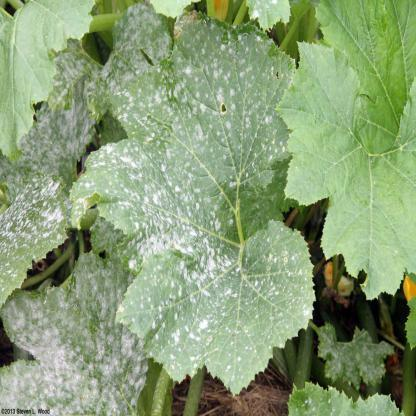Squash Powdery mildew leaf: (84, 0, 324, 382), (18, 9, 166, 176), (3, 256, 148, 414), (0, 166, 86, 305)
